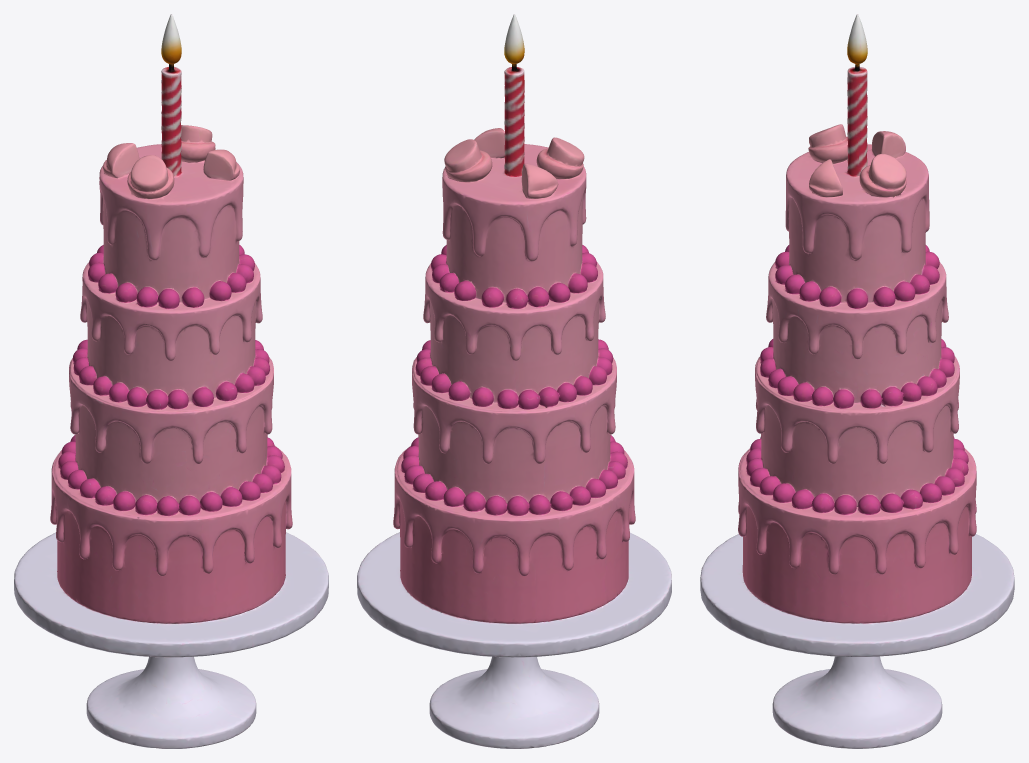
Rendered from cake1.glb.
3 views of the same model, side by side, from view 1: azimuth 30°, elevation 25°; view 2: azimuth 150°, elevation 25°; view 3: azimuth 270°, elevation 25° (orthographic).
Parts seen in each view (by area): view 1: world; view 2: world; view 3: world.
Part boxes in pixels (x1=…): world: x1=14, y1=14, x2=328, y2=748; world: x1=357, y1=14, x2=671, y2=748; world: x1=700, y1=14, x2=1014, y2=748.
Bounding box in the file's own units: 0.4075 × 0.9997 × 0.4073.
1 material, 1 textured.
